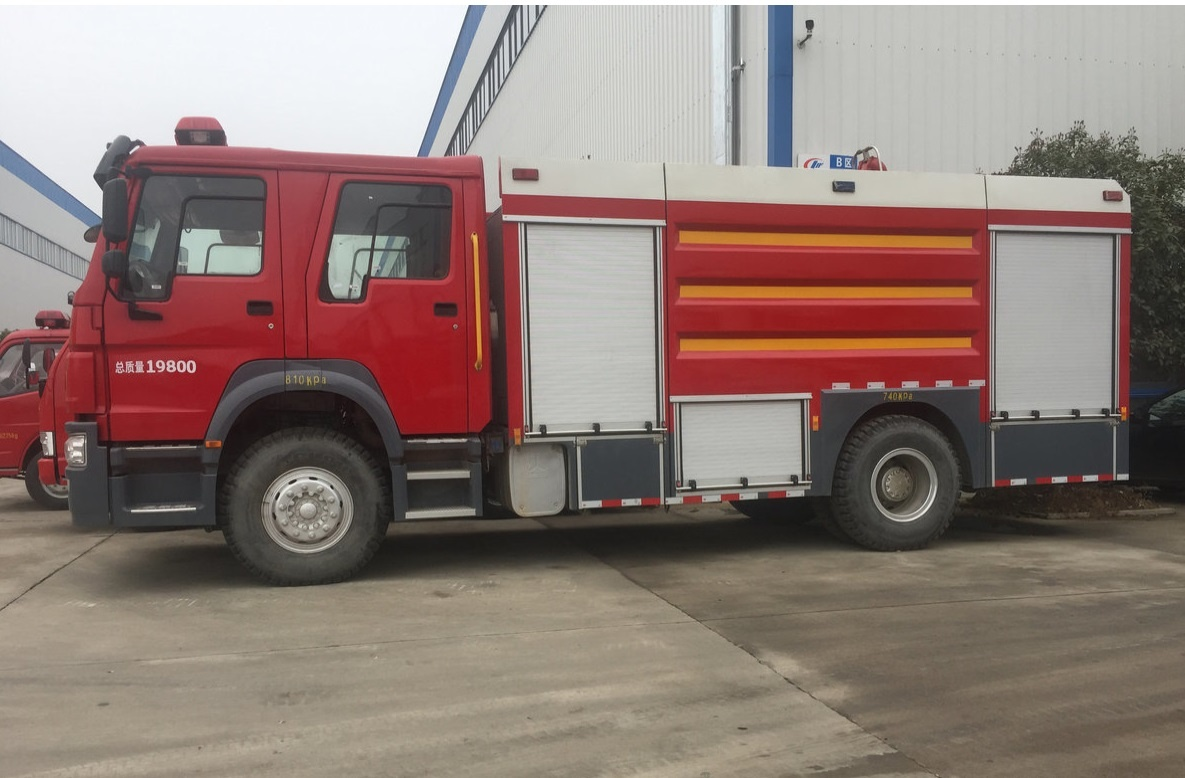fire engine: (52, 124, 1129, 569)
